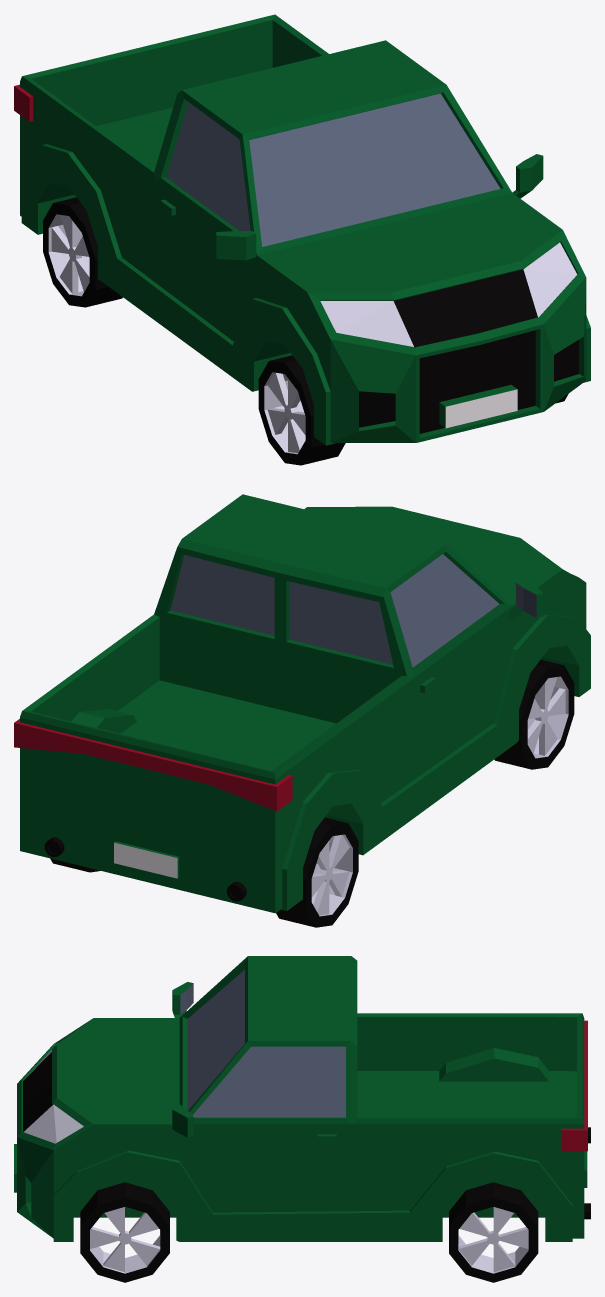
Rendered from Pickup.glb.
3 views of the same model, one above another, from view 1: azimuth 30°, elevation 25°; view 2: azimuth 150°, elevation 25°; view 3: azimuth 270°, elevation 25° (orthographic). The views are drawn at different scales.
Visible parts, largest first — view 1: Pickup, Pickup wheel front right, Pickup wheel rear right; view 2: Pickup, Pickup wheel rear right, Pickup wheel front right; view 3: Pickup, Pickup wheel rear left, Pickup wheel front left.
Part boxes in pixels (x1,y1,x2,y2): Pickup: (14, 14, 590, 445); Pickup wheel front right: (258, 355, 345, 465); Pickup wheel rear right: (43, 197, 122, 307); Pickup: (14, 494, 590, 913); Pickup wheel rear right: (276, 817, 358, 927); Pickup wheel front right: (494, 659, 574, 769); Pickup: (14, 956, 590, 1241); Pickup wheel rear left: (449, 1182, 538, 1282); Pickup wheel front left: (80, 1182, 169, 1282).
Bounding box in the file's own units: 281 × 221 × 504.
